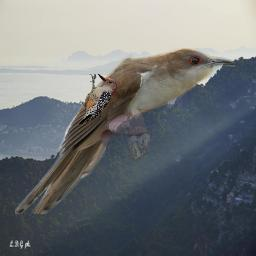Cuckoo: (15, 48, 235, 214)
Woodpecker: (79, 74, 117, 124)
